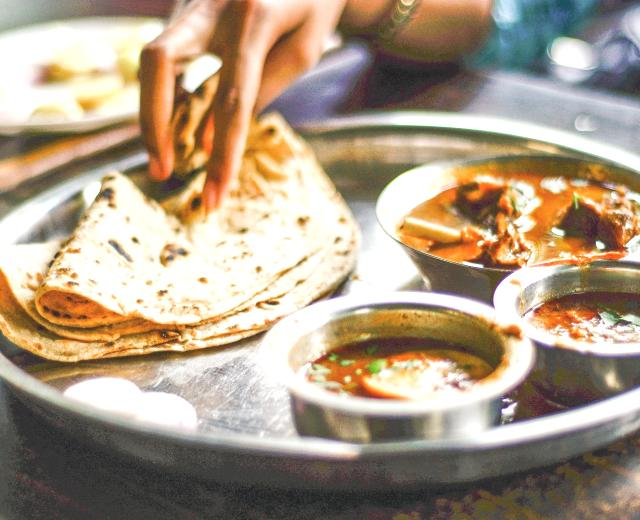chapati: (35, 173, 329, 325)
